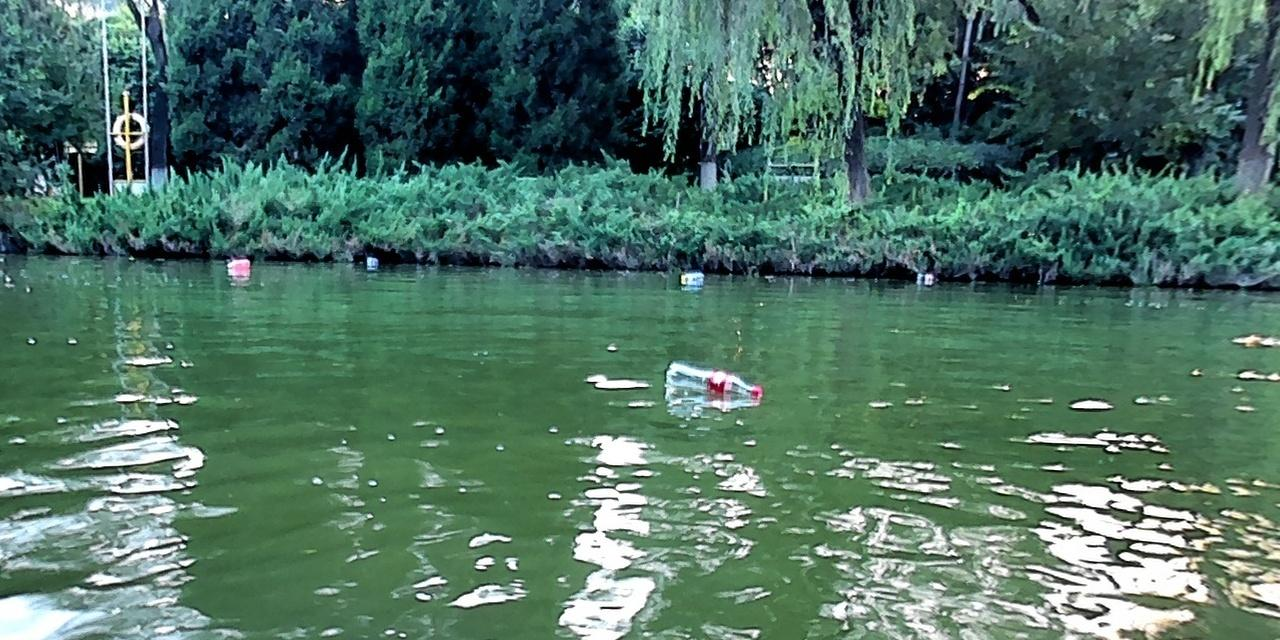bottle: (664, 359, 762, 400), (677, 269, 705, 282), (224, 258, 248, 270), (364, 253, 379, 268)
